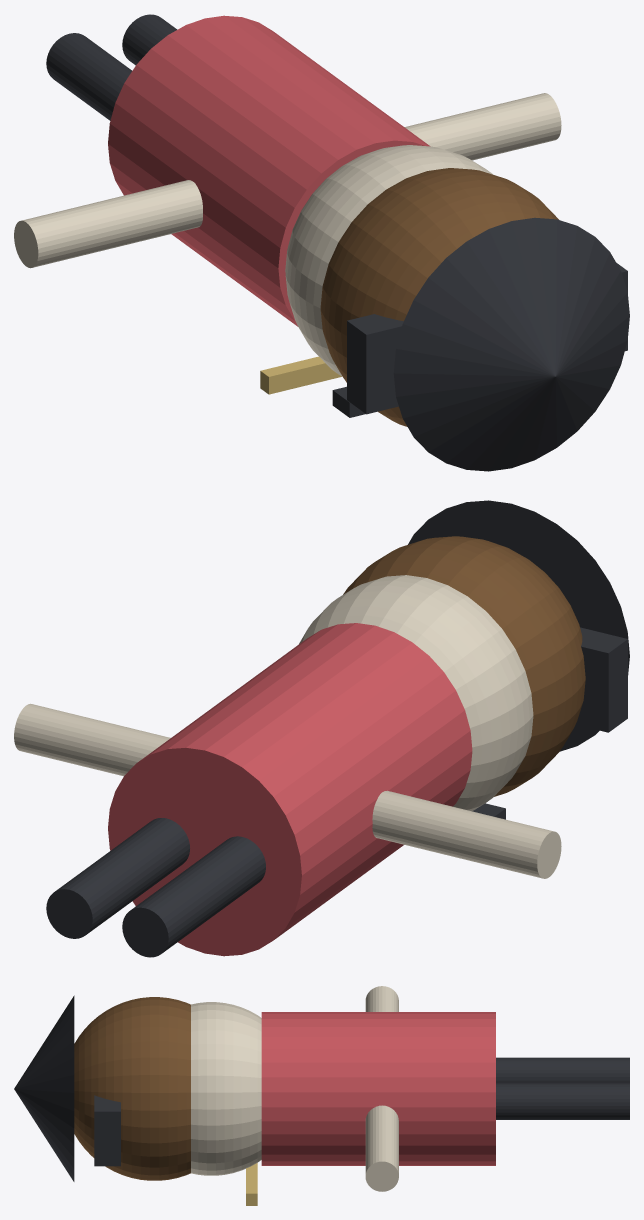
The model's file is pirate-default.glb.
3 views of the same model, one above another, from view 1: azimuth 30°, elevation 25°; view 2: azimuth 150°, elevation 25°; view 3: azimuth 270°, elevation 25° (orthographic). The views are drawn at different scales.
Visible parts, largest first — view 1: red_pirate_coat, pirate_hat_crown, pirate_hair, pirate_head, left_arm, right_arm, wide_pirate_hat_brim, left_boot, gold_belt, right_boot; view 2: red_pirate_coat, pirate_head, pirate_hair, pirate_hat_crown, left_arm, left_boot, right_boot, right_arm, wide_pirate_hat_brim; view 3: red_pirate_coat, pirate_hair, pirate_head, pirate_hat_crown, right_boot, left_boot, right_arm, wide_pirate_hat_brim, left_arm, gold_belt.
Boxes of the visible parts, x1,y1,x2,y2 form: red_pirate_coat: (108, 15, 430, 326); pirate_hat_crown: (393, 217, 629, 471); pirate_hair: (320, 168, 558, 426); pirate_head: (285, 145, 493, 376); left_arm: (14, 180, 202, 268); right_arm: (404, 93, 561, 160); wide_pirate_hat_brim: (347, 263, 627, 414); left_boot: (46, 33, 131, 120); gold_belt: (260, 356, 341, 394); right_boot: (122, 14, 177, 65); red_pirate_coat: (108, 623, 472, 956); pirate_head: (299, 575, 533, 811); pirate_hair: (343, 536, 585, 796); pirate_hat_crown: (408, 500, 629, 751); left_arm: (372, 790, 561, 878); left_boot: (122, 836, 265, 957); right_boot: (46, 818, 189, 938); right_arm: (14, 703, 170, 776); wide_pirate_hat_brim: (575, 627, 627, 732); red_pirate_coat: (261, 1012, 495, 1165); pirate_hair: (74, 997, 190, 1180); pirate_head: (191, 1002, 261, 1175); pirate_hat_crown: (14, 995, 74, 1181); right_boot: (496, 1083, 629, 1119); left_boot: (496, 1057, 629, 1083); right_arm: (365, 1105, 398, 1191); wide_pirate_hat_brim: (94, 1095, 120, 1166); left_arm: (365, 986, 398, 1011); gold_belt: (246, 1163, 257, 1205).
Size of the model in its own units: 1.24 by 0.56 by 1.84.
